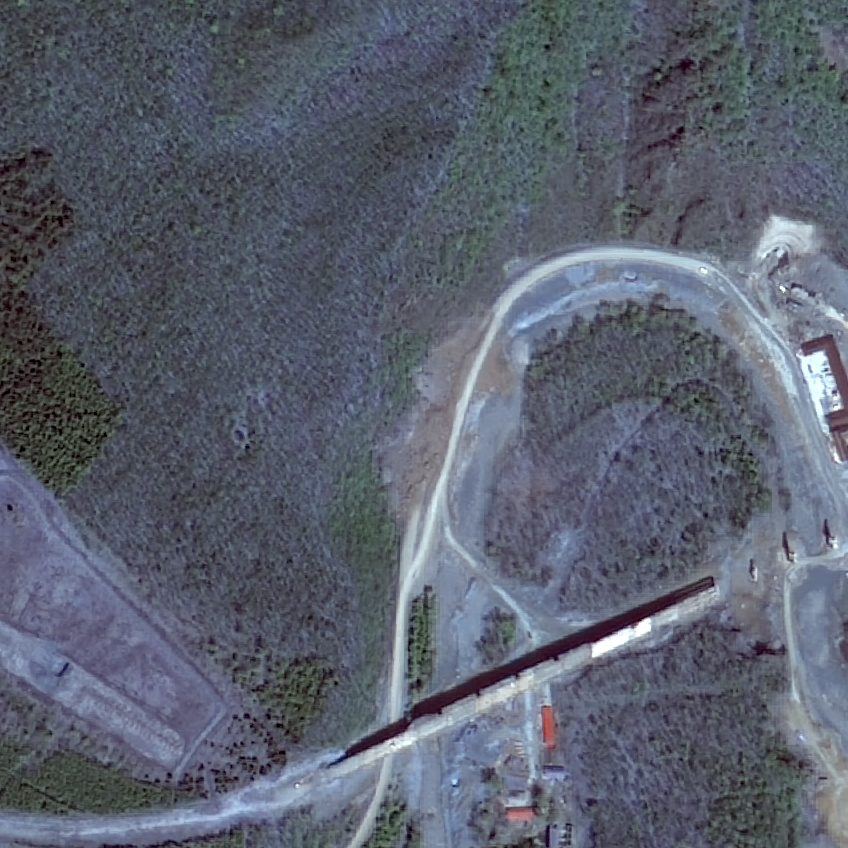slope: (381, 306, 492, 535), (765, 685, 847, 846), (721, 513, 782, 656), (748, 208, 821, 270), (476, 338, 516, 390)
